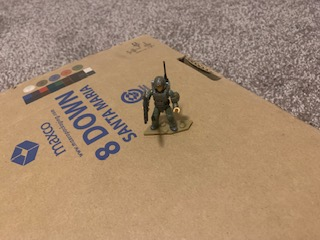soldier: (139, 59, 195, 138)
